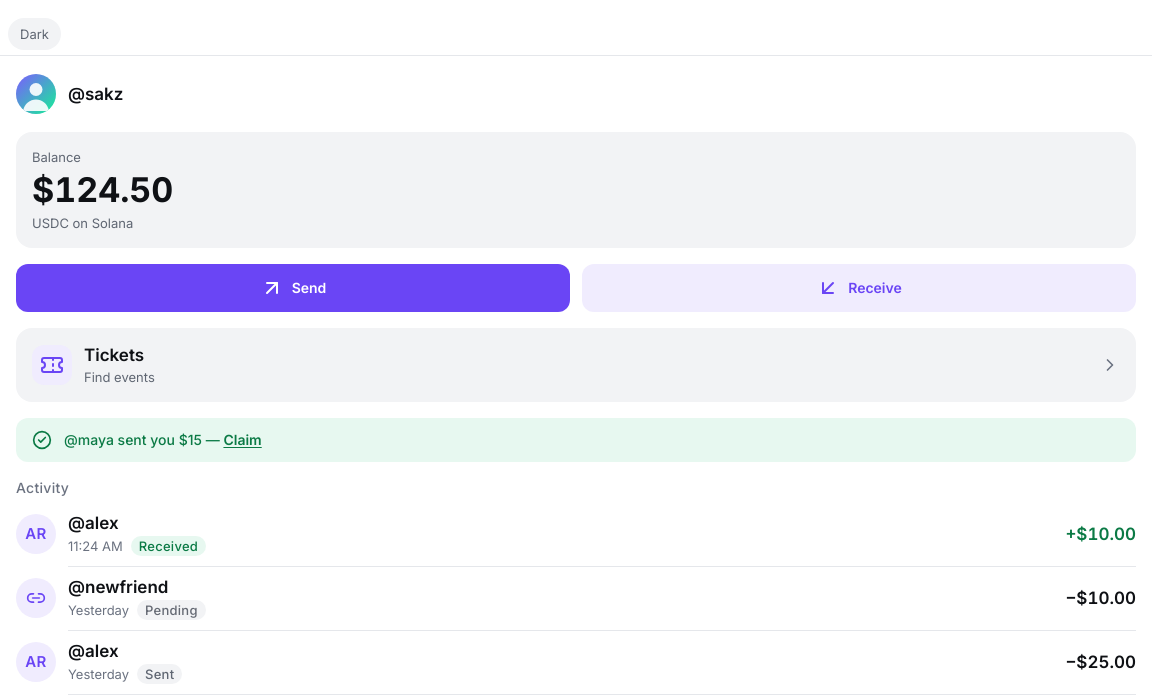
Test: S4 wallet address rows › an unknown valid address shows a single 'Send to wallet' row with its fingerprint
The image size is (1152, 695).
Expected: the text "$124.50" is shown, [32,169,173,210]
Click the button "Send" at (293, 288), box [16,264,570,312]
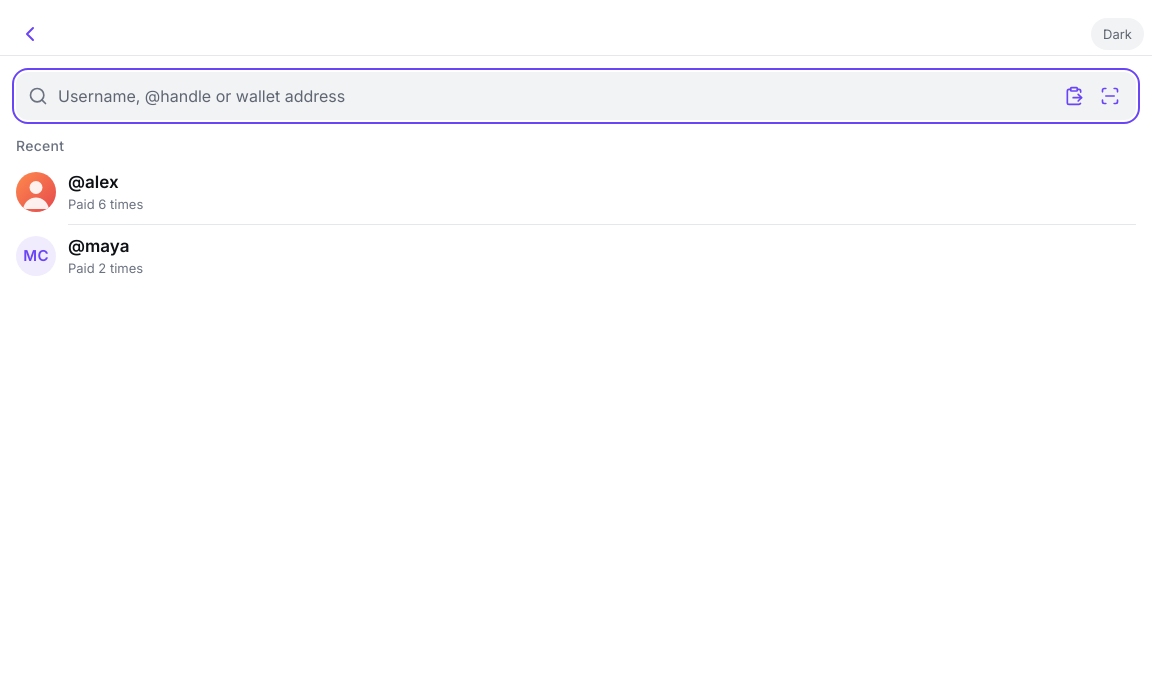
Type "6p27gS9SXs5NiV5uME9cXuveA3q3ACbXpac9VEbRn5Vx" into the search field labelled "Username, @handle or wallet address" at (550, 96), box [56,72,1044,120]
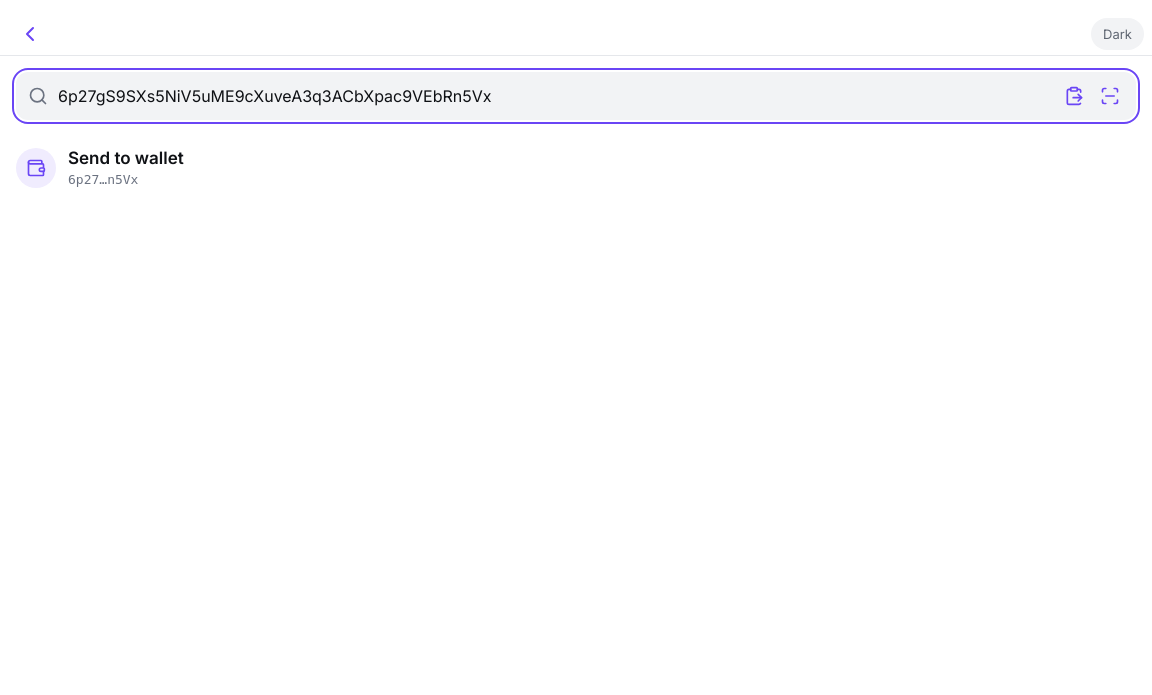
Expected: the button with aria-label "Send to wallet, 6p27…n5Vx" is shown, [16,136,1136,200]
